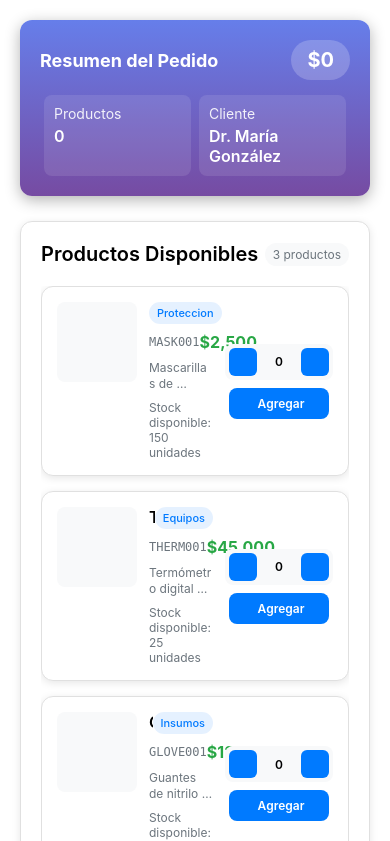
Test: NewOrderScreen › adds to cart and updates quantity when item already exists
The width and height of the screenshot is (390, 841).
Click the text "Agregar" below "2,500" at coordinates (281, 403), box x1=258 y1=396 x2=304 y2=410
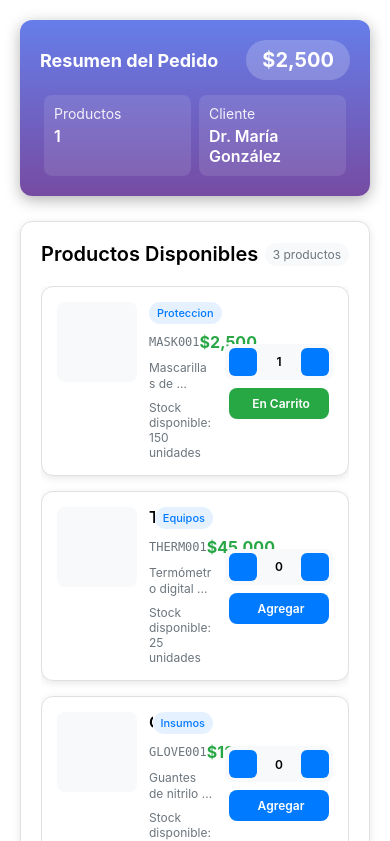
Expected: the text "1" next to "Dr. María González" is shown, x1=54 y1=126 x2=61 y2=146
Expected: the text "En Carrito" is shown, x1=252 y1=396 x2=310 y2=410
